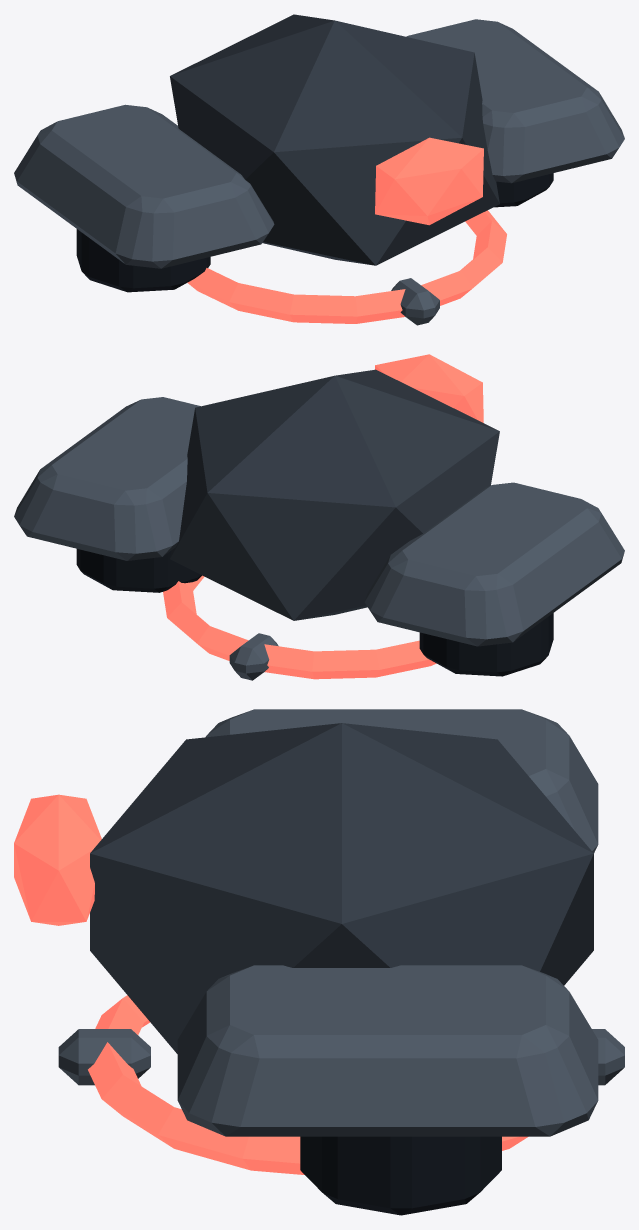
File: m_drone.glb
3 views of the same model, one above another, from view 1: azimuth 30°, elevation 25°; view 2: azimuth 150°, elevation 25°; view 3: azimuth 270°, elevation 25° (orthographic). The views are drawn at different scales.
Visible parts, largest first — view 1: Drone shell, Lift assembly; view 2: Drone shell, Lift assembly; view 3: Drone shell, Lift assembly.
Part boxes in pixels (x1,y1,x2,y2): Drone shell: (14, 14, 624, 292); Lift assembly: (187, 210, 506, 325); Drone shell: (14, 354, 624, 676); Lift assembly: (163, 575, 436, 680); Drone shell: (14, 709, 598, 1215); Lift assembly: (58, 995, 624, 1174).
Size of the model in its own units: 1.33 by 0.6 by 0.9281.
